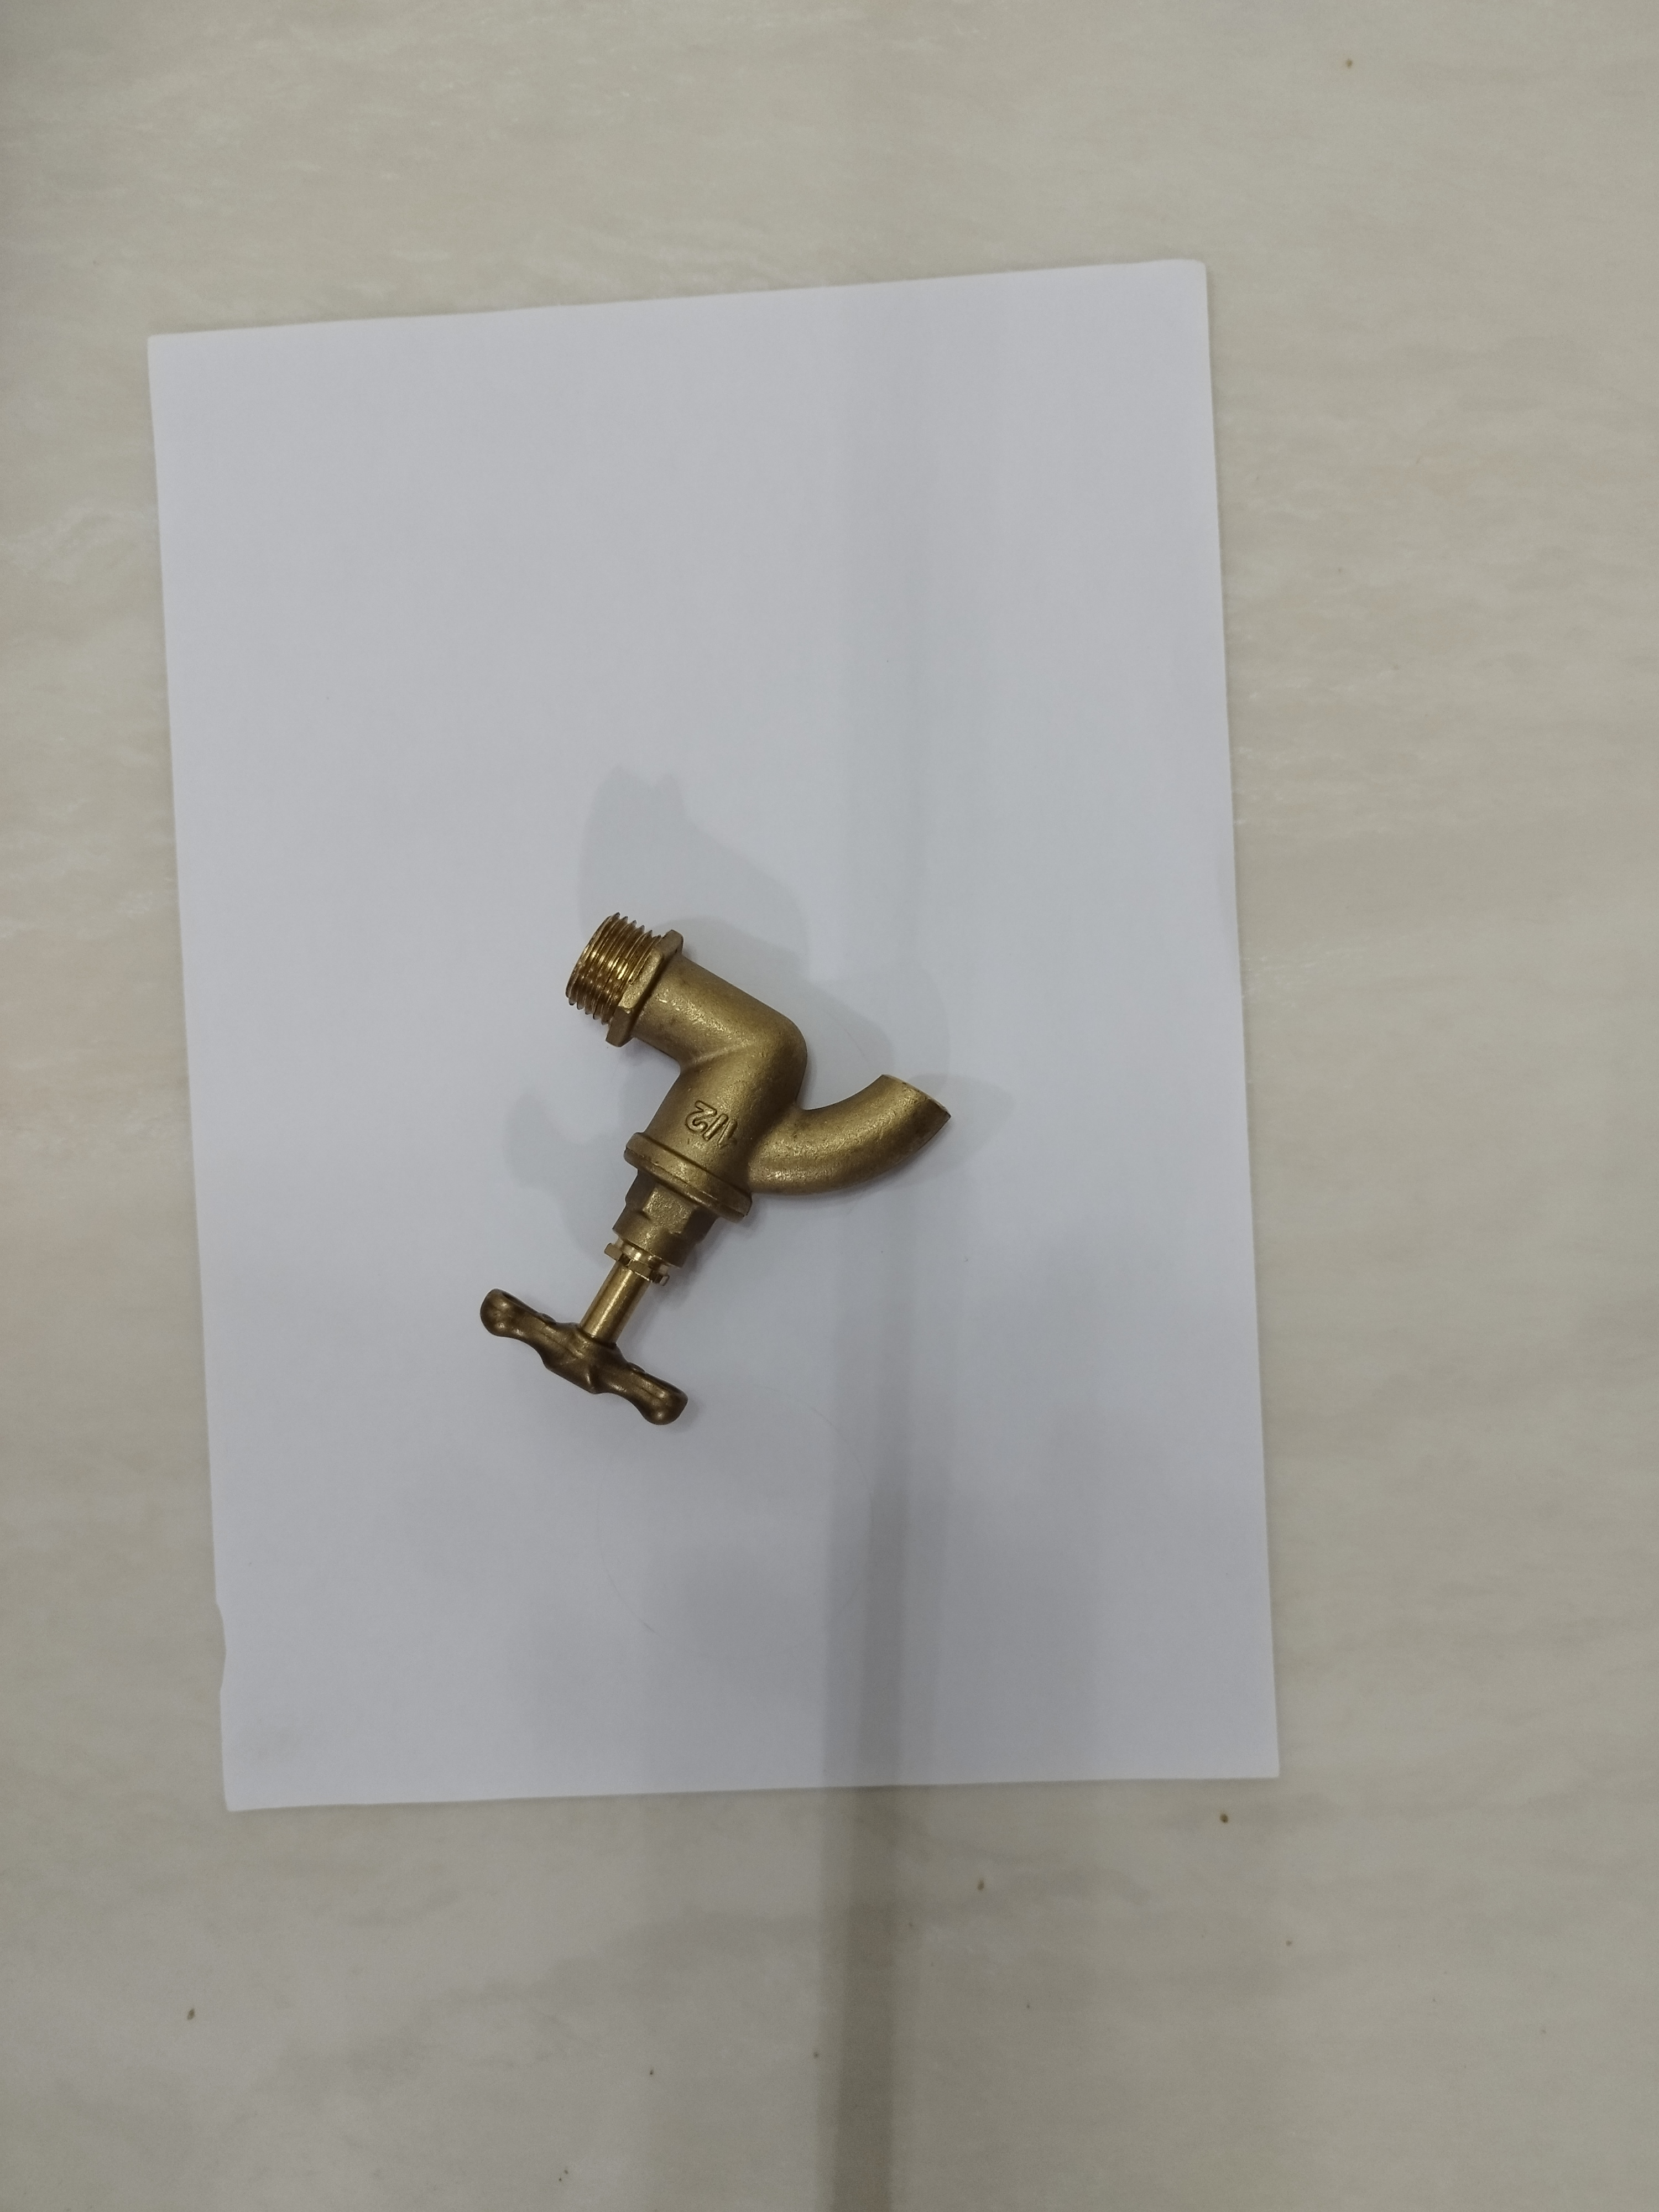brass_water_tap: (457, 904, 955, 1442)
